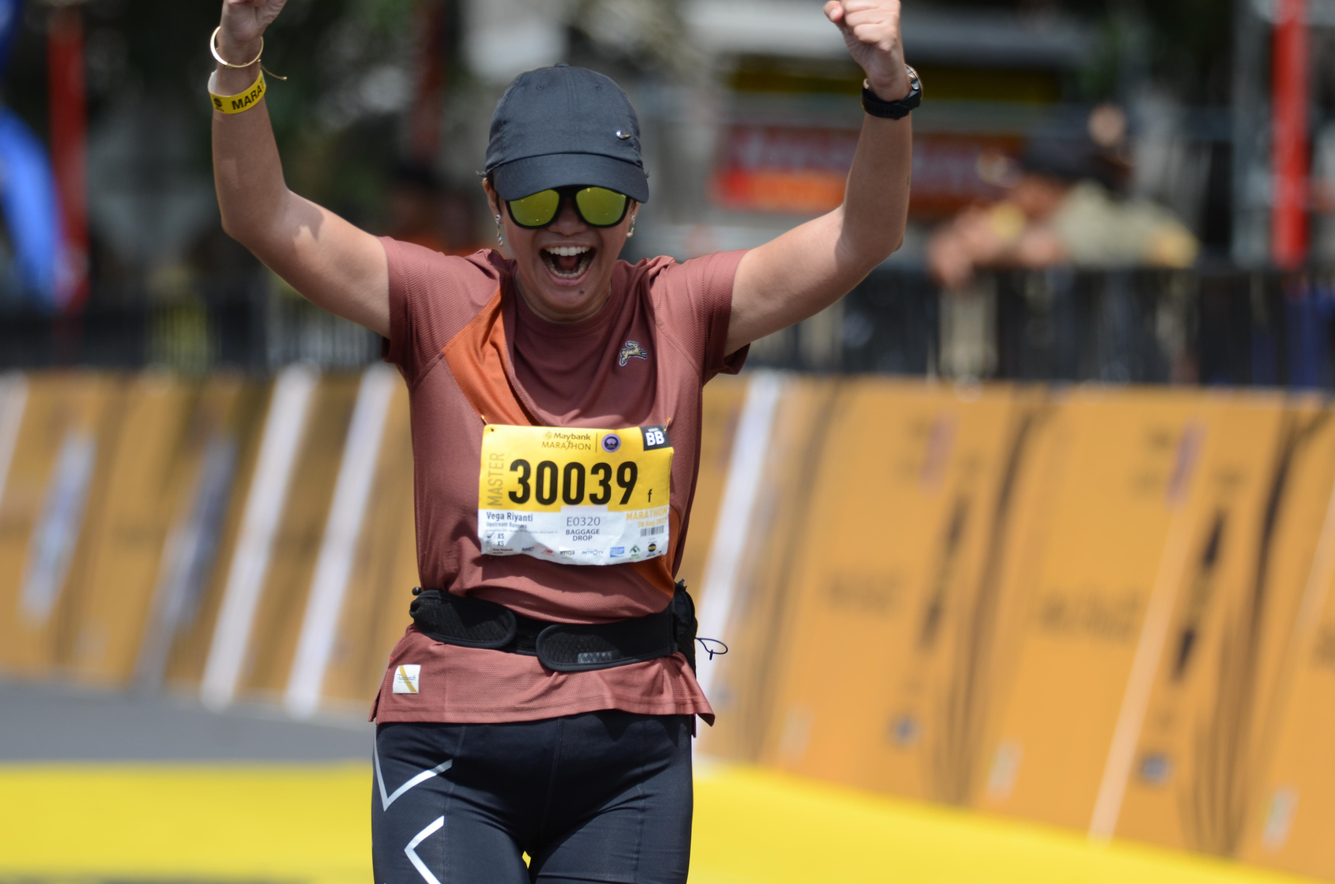bib: (481, 427, 667, 562)
